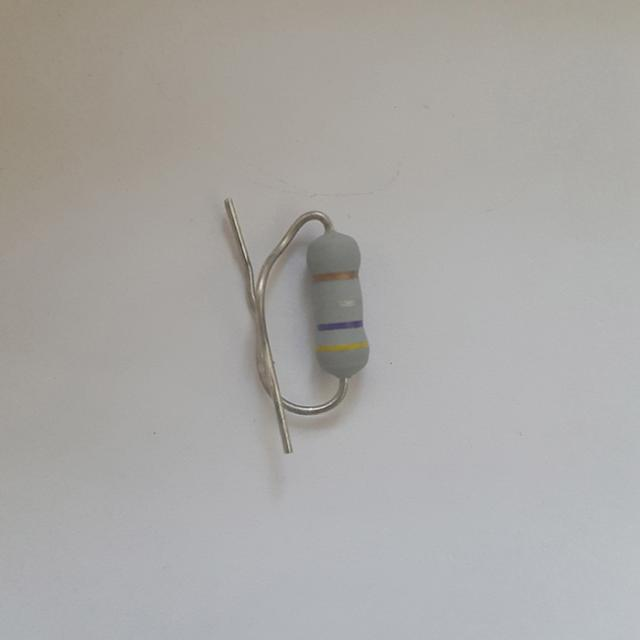Resistor Carbon-Film: (308, 226, 373, 382)
